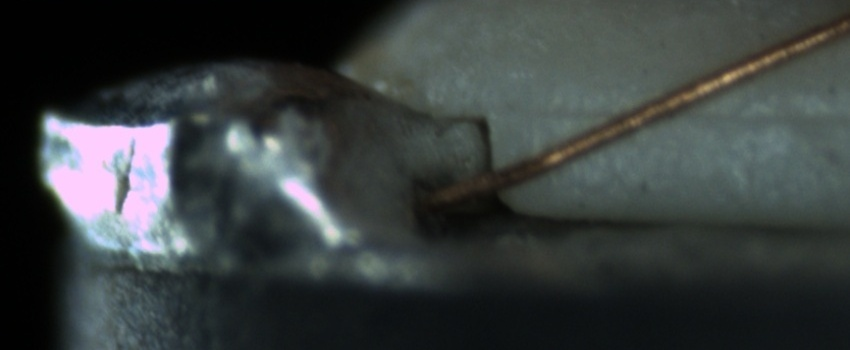DL: (525, 83, 844, 142)
